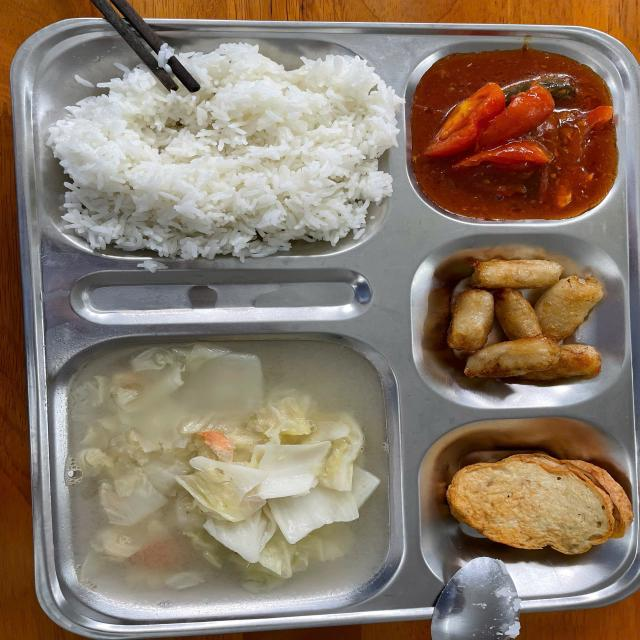cahoi: (414, 48, 616, 224)
canhcaitrang: (60, 350, 397, 603)
chaca: (444, 451, 631, 556)
chagiochien: (438, 258, 613, 388)
salad: (48, 50, 390, 255)
